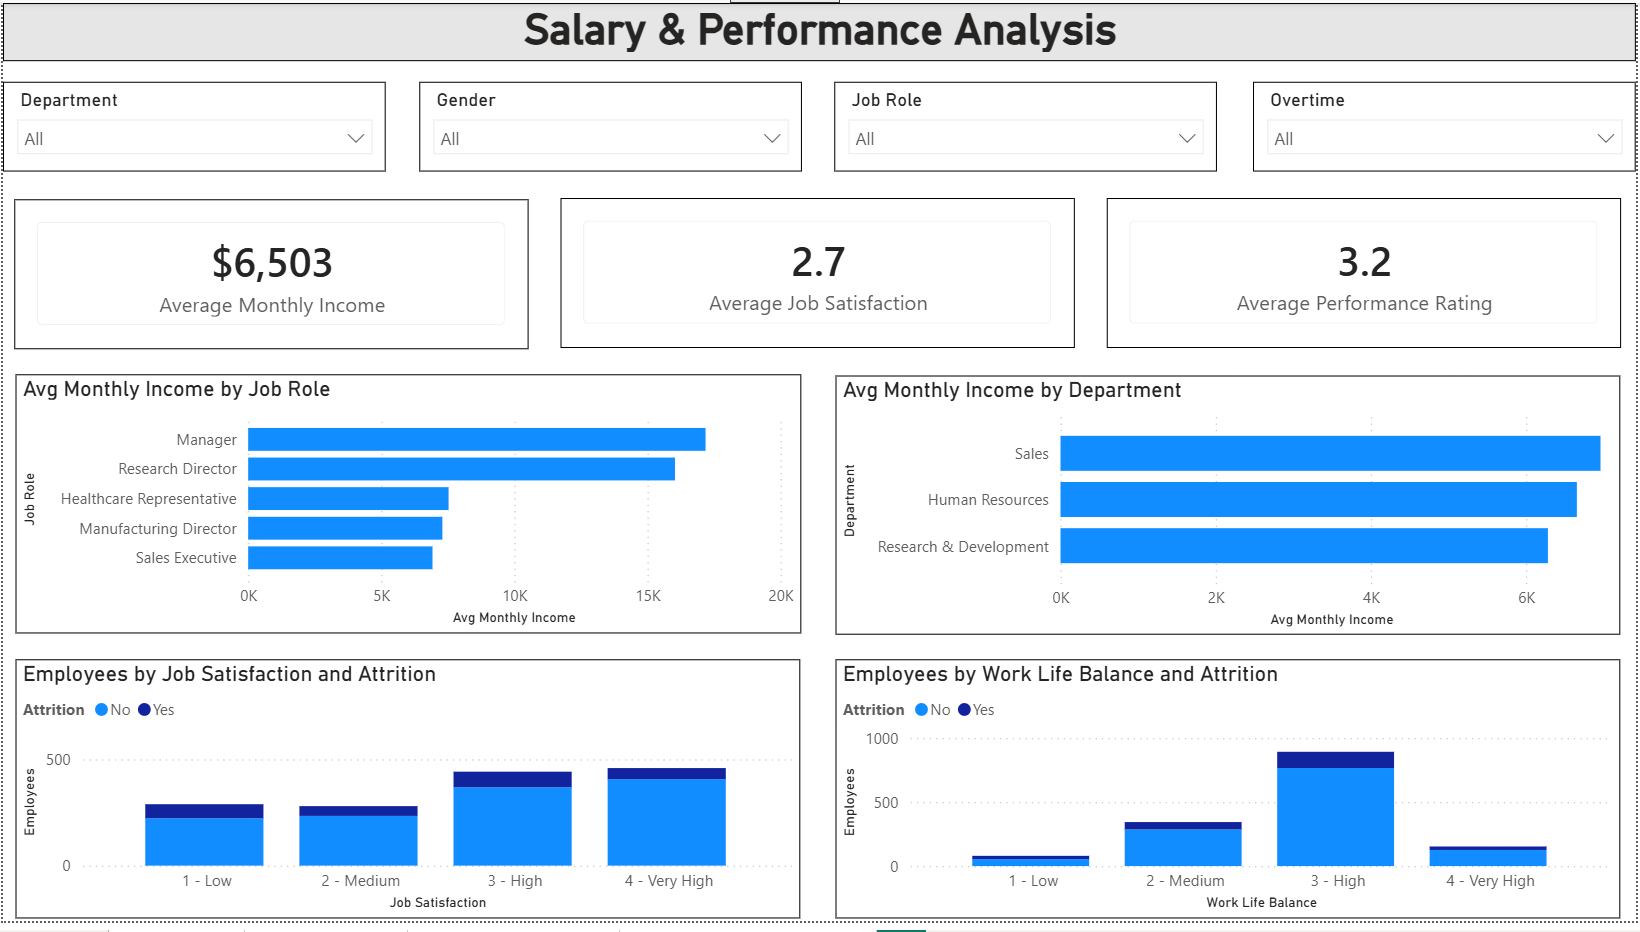

This screenshot's page, from the dashboard's own definition file:
{"tool":"powerbi","page":{"name":"Salary & Performance Analysis","canvas":[1280,720],"ordinal":3},"visuals":[{"type":"textbox","title":"Salary & Performance Analysis","box":[0,0,1280,45.6],"z":0},{"type":"slicer","fields":{"Values":["HR Data.Department"]},"box":[0,62,300,70],"z":1000},{"type":"slicer","fields":{"Values":["HR Data.Gender"]},"box":[326,62,300,70],"z":2000},{"type":"slicer","fields":{"Values":["HR Data.Job Role"]},"box":[652,62,300,70],"z":3000},{"type":"slicer","fields":{"Values":["HR Data.Overtime"]},"box":[980,62,300,70],"z":4000},{"type":"cardVisual","fields":{"Data":["Measures (3).Average Monthly Income Display"]},"box":[9.3,153.5,403.5,117.4],"z":5000},{"type":"cardVisual","fields":{"Data":["Measures (3).Average Job Satisfaction"]},"box":[437.2,153,403.5,117.4],"z":6000},{"type":"cardVisual","fields":{"Data":["Measures (3).Average Performance Rating"]},"box":[865,153,403,117.4],"z":7000},{"type":"clusteredBarChart","fields":{"Category":["HR Data.Job Role"],"Y":["Measures (3).Average Monthly Income"]},"box":[9.5,291,616.1,203],"z":8000},{"type":"clusteredBarChart","fields":{"Category":["HR Data.Department"],"Y":["Measures (3).Average Monthly Income"]},"box":[652.2,292.2,615.6,203.3],"z":9000},{"type":"columnChart","fields":{"Category":["HR Data.Work Life Balance Group"],"Y":["Measures (3).Total Employees"],"Series":["HR Data.Attrition"]},"box":[652.2,514.4,615.6,203.3],"z":10000},{"type":"columnChart","fields":{"Category":["HR Data.Job Satisfaction Group"],"Series":["HR Data.Attrition"],"Y":["Measures (3).Total Employees"]},"box":[10,514.4,615.6,203],"z":11000}]}

Visuals, with their boxes in screenshot pixels (x1, y1, x2, y2), scaled from the page's 1280x720 canvas onto the 1640x932 screenshot:
"Salary & Performance Analysis" textbox: (left=0, top=0, right=1639, bottom=59)
slicer - HR Data.Department: (left=0, top=80, right=384, bottom=171)
slicer - HR Data.Gender: (left=418, top=80, right=802, bottom=171)
slicer - HR Data.Job Role: (left=835, top=80, right=1220, bottom=171)
slicer - HR Data.Overtime: (left=1256, top=80, right=1639, bottom=171)
cardVisual - Measures (3).Average Monthly Income Display: (left=12, top=199, right=529, bottom=351)
cardVisual - Measures (3).Average Job Satisfaction: (left=560, top=198, right=1077, bottom=350)
cardVisual - Measures (3).Average Performance Rating: (left=1108, top=198, right=1625, bottom=350)
clusteredBarChart - HR Data.Job Role x Measures (3).Average Monthly Income: (left=12, top=377, right=802, bottom=639)
clusteredBarChart - HR Data.Department x Measures (3).Average Monthly Income: (left=836, top=378, right=1624, bottom=641)
columnChart - HR Data.Work Life Balance Group x Measures (3).Total Employees: (left=836, top=666, right=1624, bottom=929)
columnChart - HR Data.Job Satisfaction Group x HR Data.Attrition: (left=13, top=666, right=802, bottom=929)
